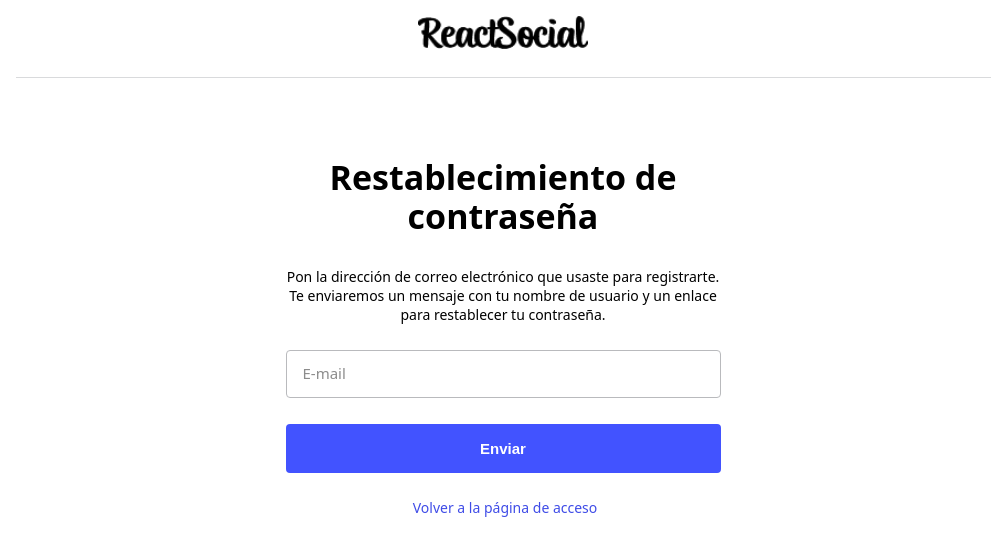
Scenario: <PasswordReset/> › renders and after sending an email shows a success message
Type "admin@admin.com" into the field labelled "E-mail".
click(503, 374); type("admin@admin.com")  # box [286,350,720,396]
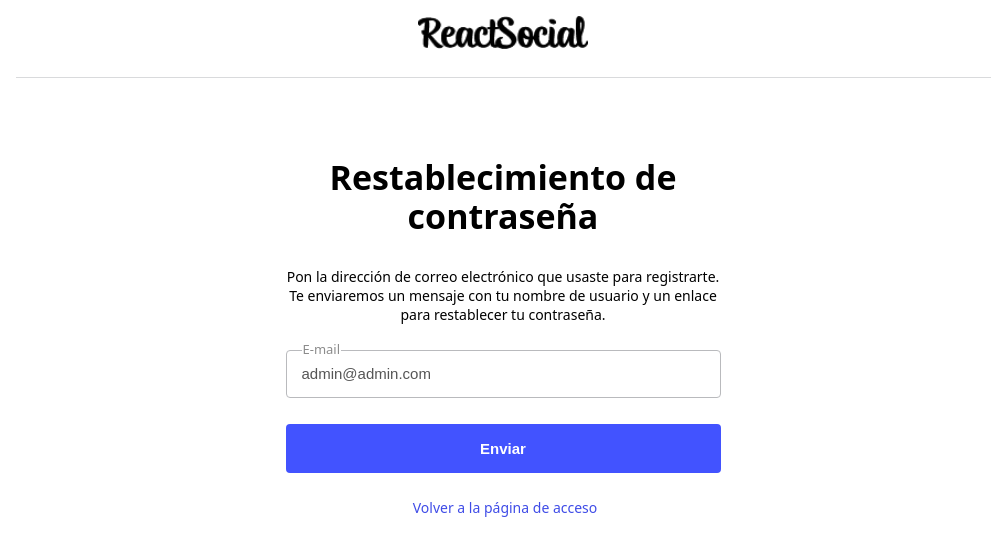
Click the button "Enviar".
click(503, 448)  # box [286,424,720,473]
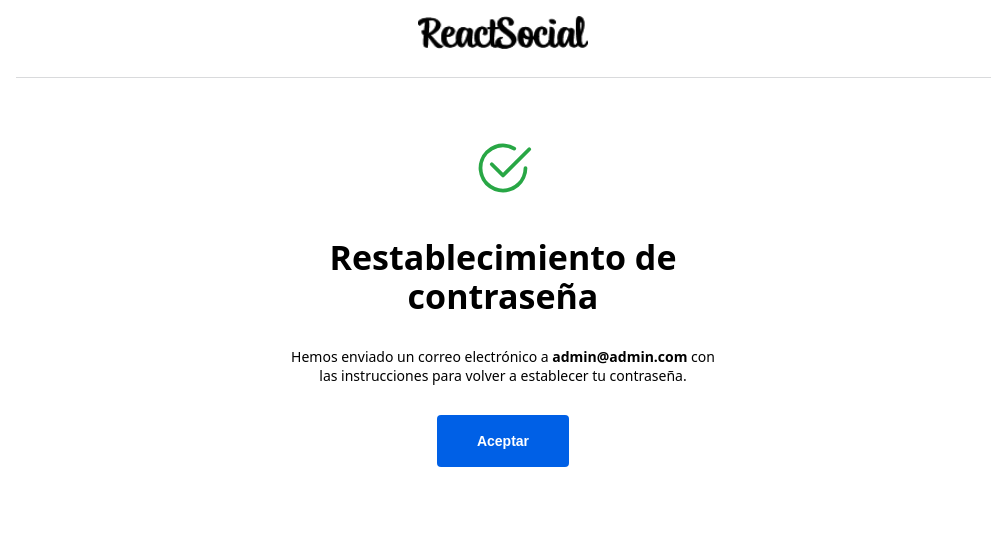
Check: the element named "confirm-message" shows "Hemos enviado un correo electrónico a admin@admin.com con las instrucciones para volver a establecer tu contraseña.", box [286,346,720,384]
